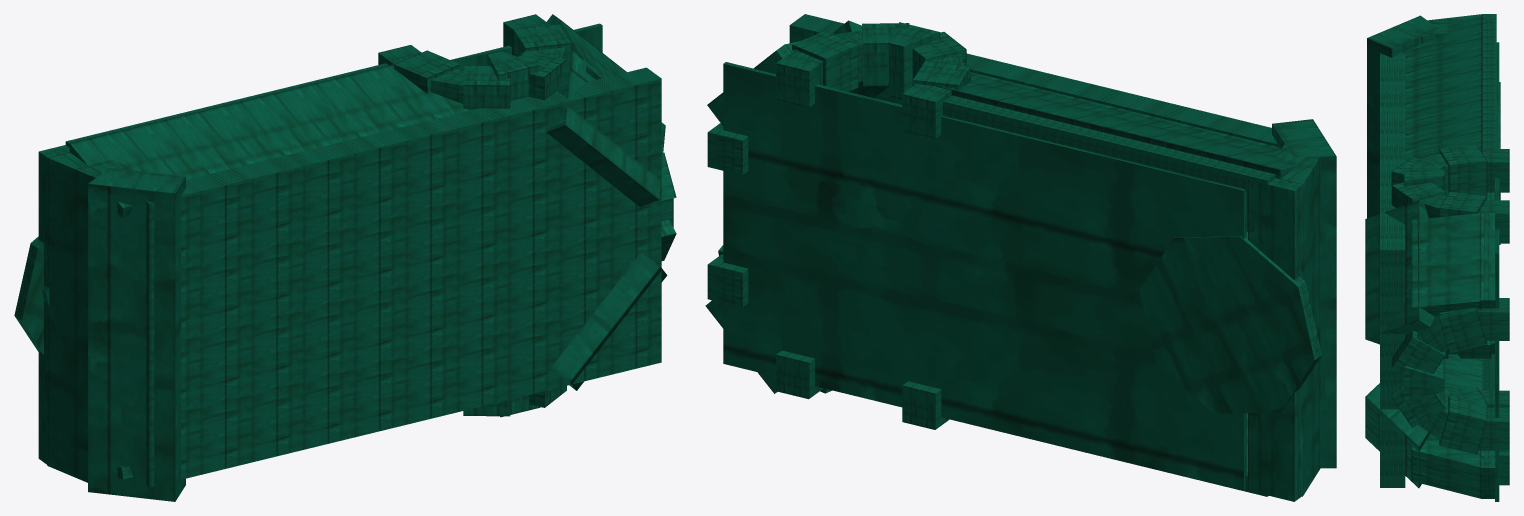
Rendered from room1dp_wtf.obj.
3 views of the same model, side by side, from view 1: azimuth 30°, elevation 25°; view 2: azimuth 150°, elevation 25°; view 3: azimuth 270°, elevation 25° (orthographic). The views are drawn at different scales.
Visible parts, largest first — view 1: group2; view 2: group2; view 3: group2.
Boxes of the visible parts, <box> form: group2: <box>14,14,676,501</box>; group2: <box>705,14,1336,501</box>; group2: <box>1365,14,1509,501</box>.
Bounding box in the file's own units: 660 × 359 × 162.
